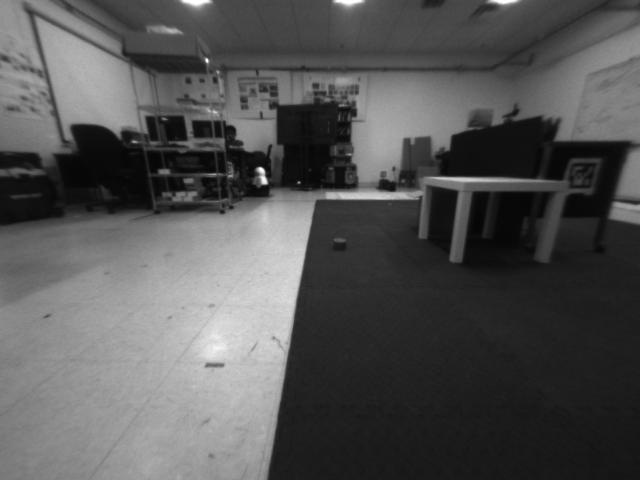dogtoy: (324, 229, 354, 261)
